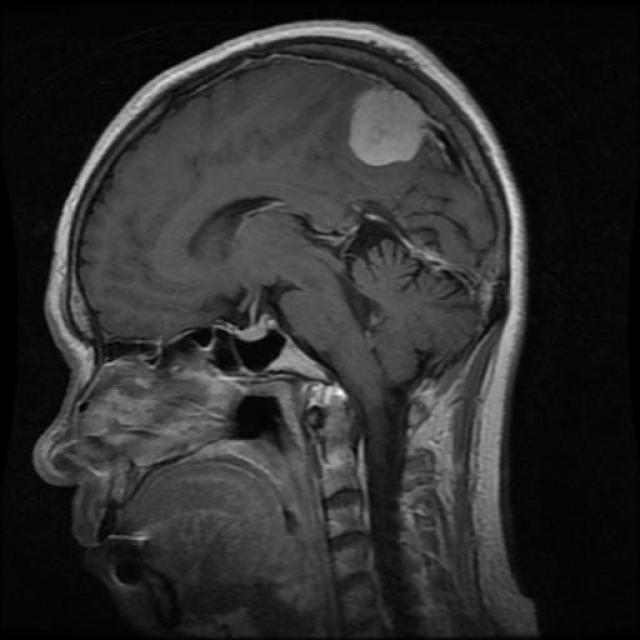meningioma: (348, 89, 429, 169)
